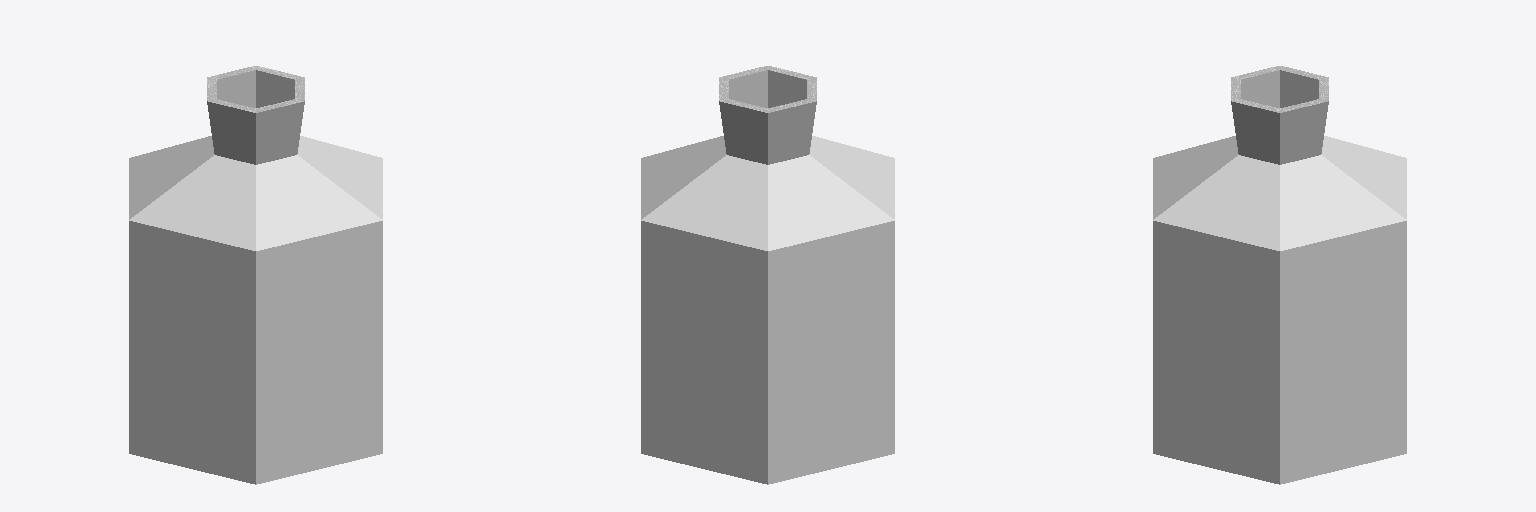
The model's file is ReagentBottle.obj.
3 views of the same model, side by side, from view 1: azimuth 30°, elevation 25°; view 2: azimuth 150°, elevation 25°; view 3: azimuth 270°, elevation 25° (orthographic).
Parts seen in each view (by area): view 1: Mesh1 Model; view 2: Mesh1 Model; view 3: Mesh1 Model.
Boxes of the visible parts, x1=… form: Mesh1 Model: x1=129, y1=66, x2=382, y2=484; Mesh1 Model: x1=641, y1=66, x2=894, y2=484; Mesh1 Model: x1=1153, y1=66, x2=1406, y2=484.
Size of the model in its own units: 0.12 by 0.15 by 0.1039.